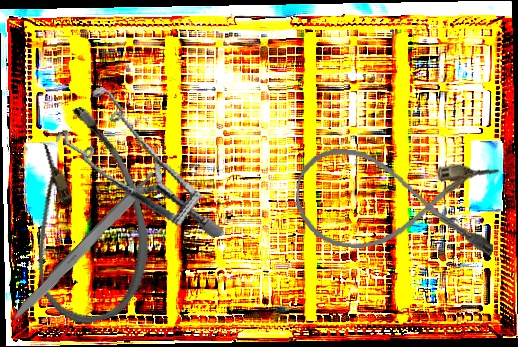Cannula: (0, 98, 167, 333), (291, 144, 502, 263)
Scalpel Handle: (8, 169, 160, 327)
Speculum: (45, 65, 225, 273)
